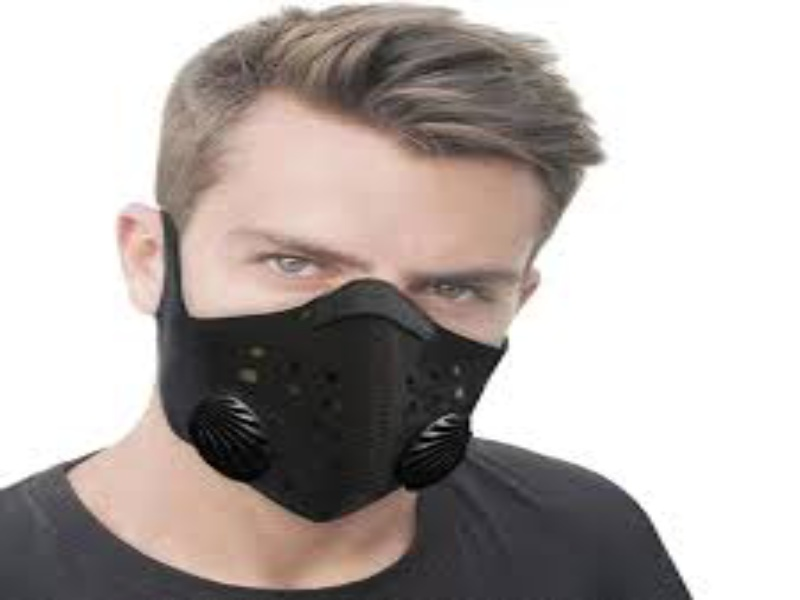ManaoArotava: (109, 65, 563, 533)
